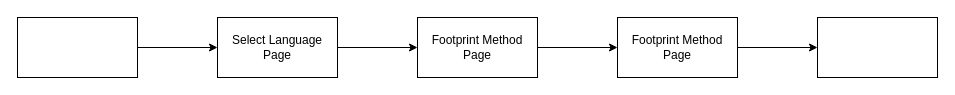
Some shapes in this 955 by 95 pixel diagram are drawn without their labels. The shapes that lost their labels are listed below. From the top down, each one's centre as x and y in pixels, then its label:
At pixel 77 47: "Main Page".
At pixel 877 47: "Household Footprint Page".
